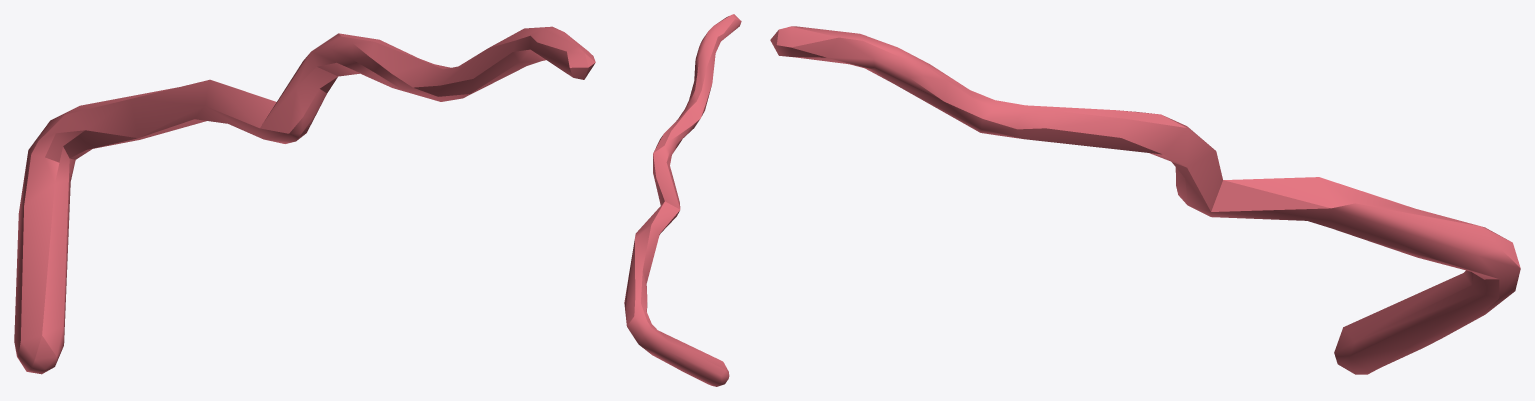
The model's file is fma4712_fj2713.glb.
The picture shows the model from 3 angles, left to right: view 1: azimuth 30°, elevation 25°; view 2: azimuth 150°, elevation 25°; view 3: azimuth 270°, elevation 25°; orthographic projection. The views are drawn at different scales.
Parts seen in each view (by area): view 1: FMA4712_FJ2713; view 2: FMA4712_FJ2713; view 3: FMA4712_FJ2713.
Part boxes in pixels (x1,y1,x2,y2): FMA4712_FJ2713: (14, 26, 595, 374); FMA4712_FJ2713: (624, 14, 741, 386); FMA4712_FJ2713: (770, 26, 1520, 374).
Size of the model in its own units: 0.00567 by 0.00864 by 0.0125.
